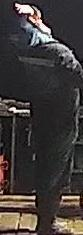vest: (14, 36, 81, 145)
